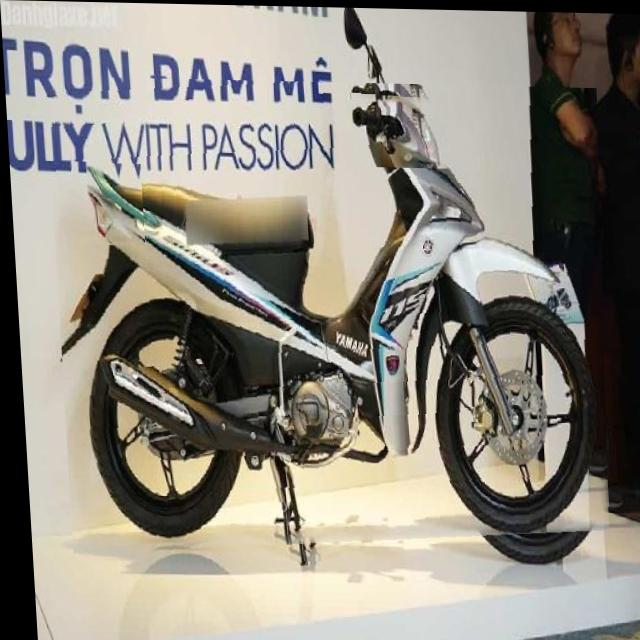All: (45, 76, 619, 564)
Head: (350, 91, 448, 167)
Tail: (72, 161, 142, 245)
